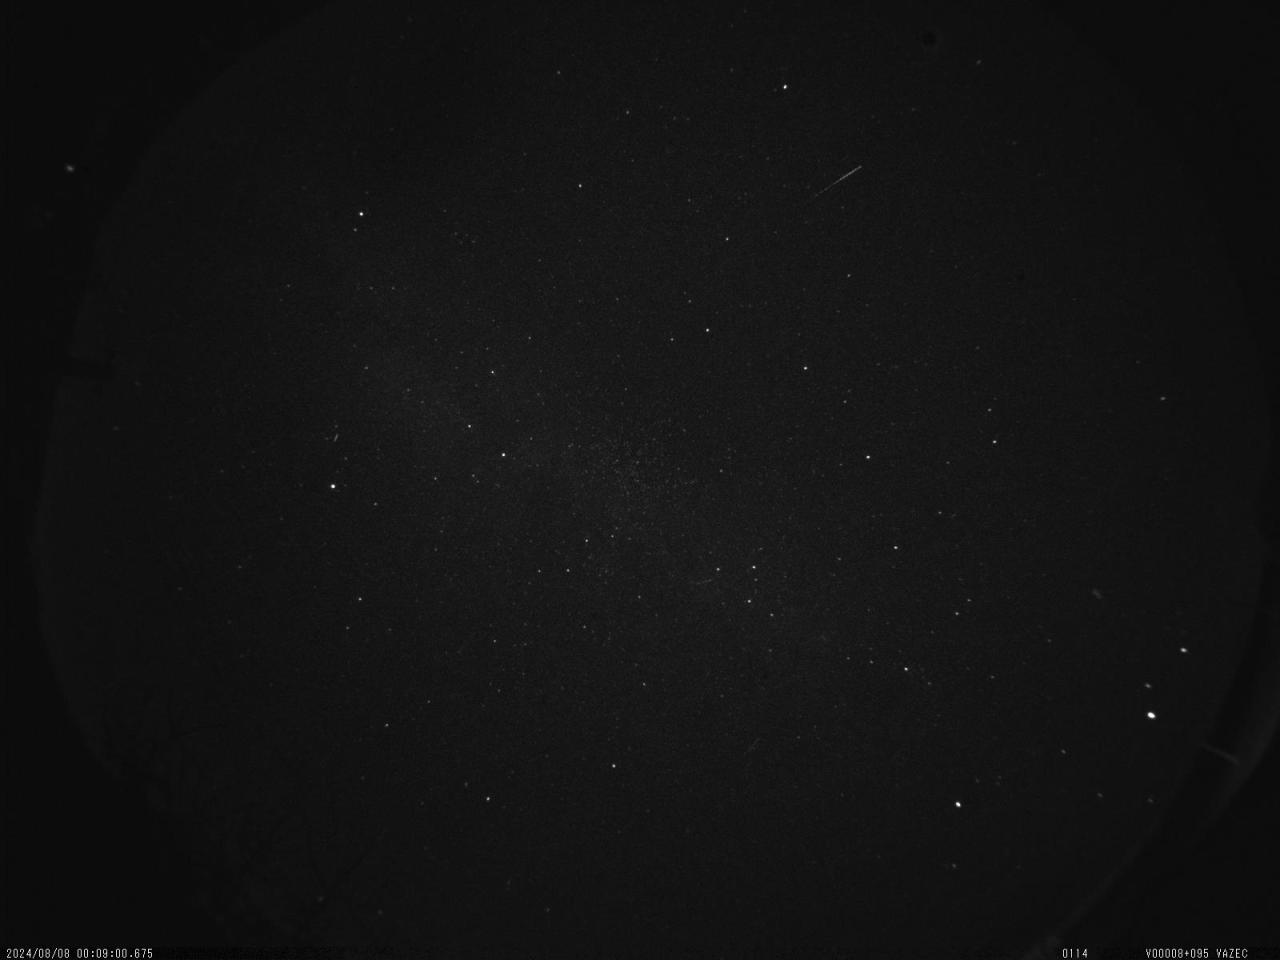Meteor: (808, 162, 866, 200)
